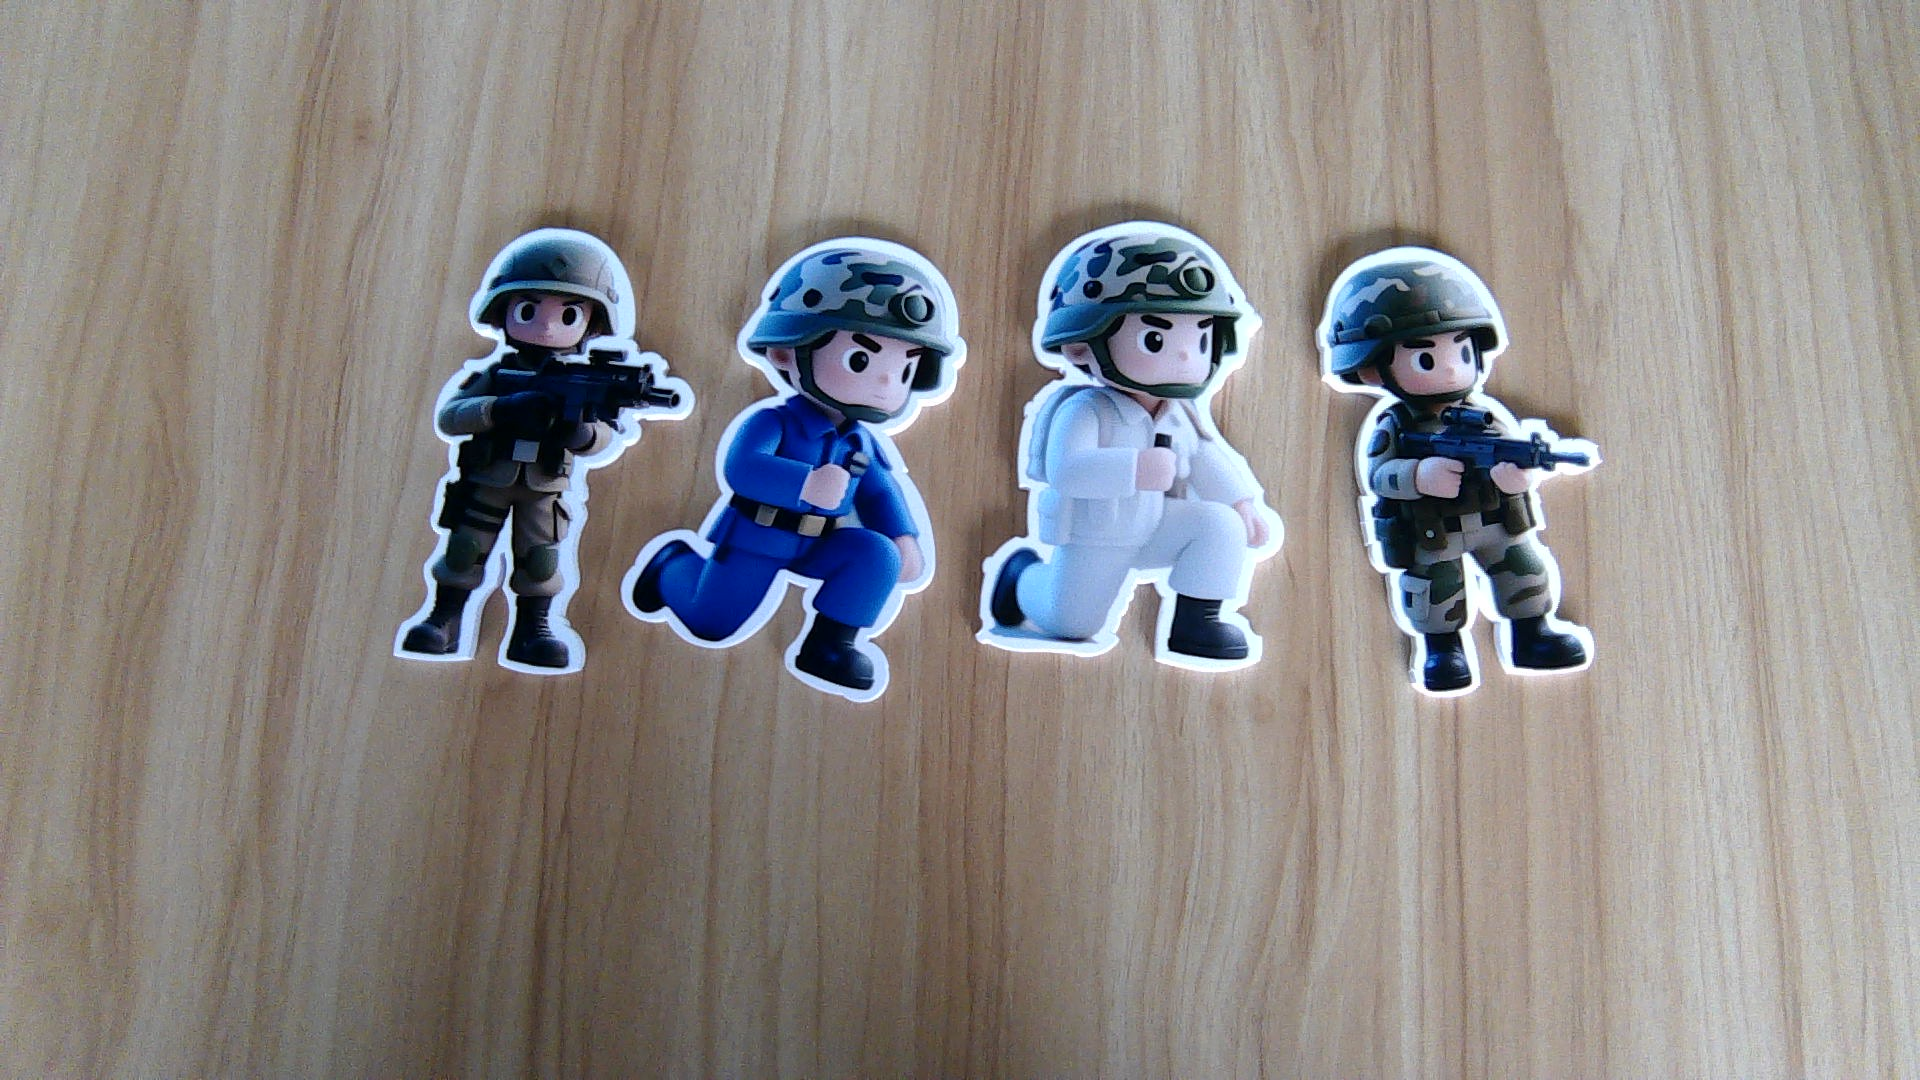人质: (975, 396, 1286, 678)
友军: (1340, 400, 1613, 696), (389, 357, 629, 678)
敌人2: (620, 381, 942, 705)
